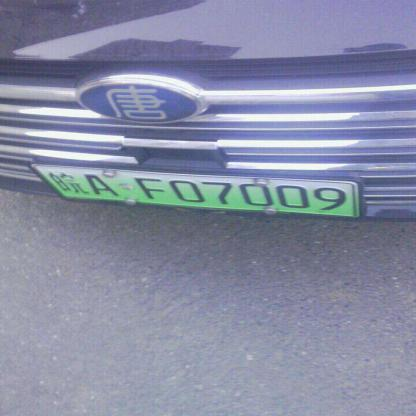lp: (65, 164, 359, 217)
